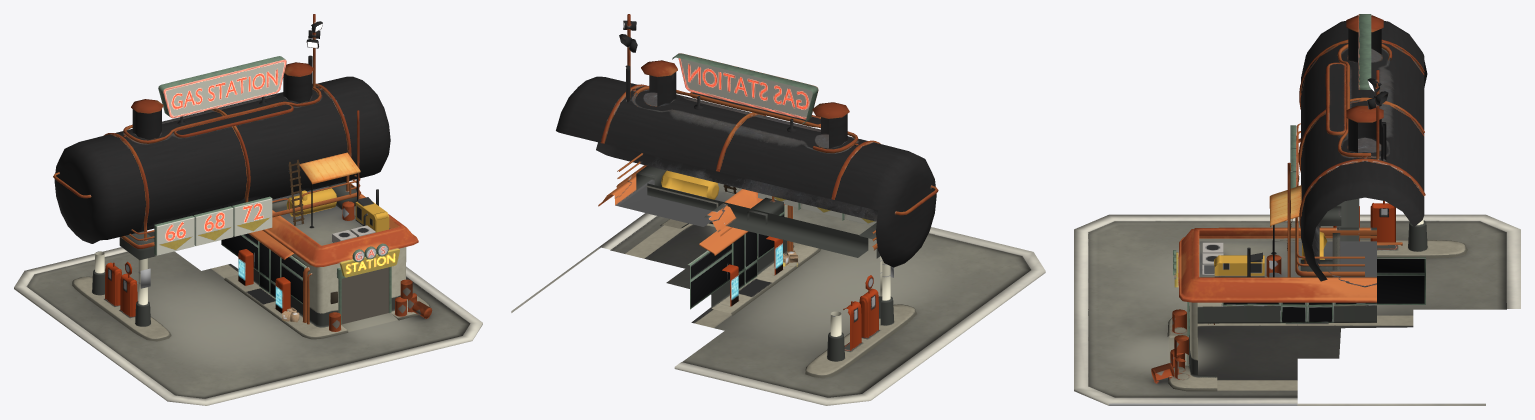
Rendered from GameTeq_TestWork.fbx.
3 renders of one model, left to right at view 1: azimuth 30°, elevation 25°; view 2: azimuth 150°, elevation 25°; view 3: azimuth 270°, elevation 25°, orthographic. The views are drawn at different scales.
Visible parts, largest first — view 1: ResourcePoint_GasStation_4K; view 2: ResourcePoint_GasStation_4K; view 3: ResourcePoint_GasStation_4K.
Boxes of the visible parts, x1,y1,x2,y2 form: ResourcePoint_GasStation_4K: (14,14,482,405); ResourcePoint_GasStation_4K: (511,14,1045,405); ResourcePoint_GasStation_4K: (1074,14,1520,405).
Bounding box in the file's own units: 200 × 148 × 200.
